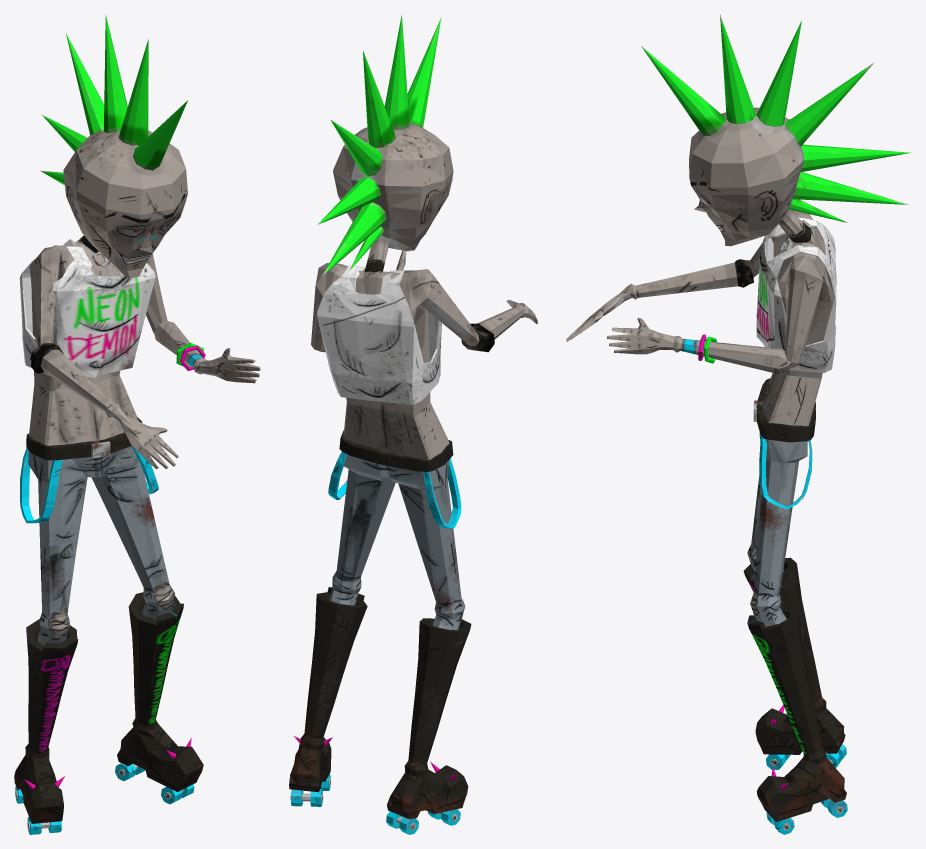
File: punkAnimation_000012.obj
The picture shows the model from 3 angles, left to right: view 1: azimuth 30°, elevation 25°; view 2: azimuth 150°, elevation 25°; view 3: azimuth 270°, elevation 25°; orthographic projection. The views are drawn at different scales.
Parts seen in each view (by area): view 1: Cube.004_Cube.003; view 2: Cube.004_Cube.003; view 3: Cube.004_Cube.003.
Boxes of the visible parts, bbox=[...] form: Cube.004_Cube.003: bbox=[14, 14, 260, 834]; Cube.004_Cube.003: bbox=[289, 14, 537, 834]; Cube.004_Cube.003: bbox=[566, 14, 910, 834].
Bounding box in the file's own units: 1.83 × 7.5 × 2.99.
